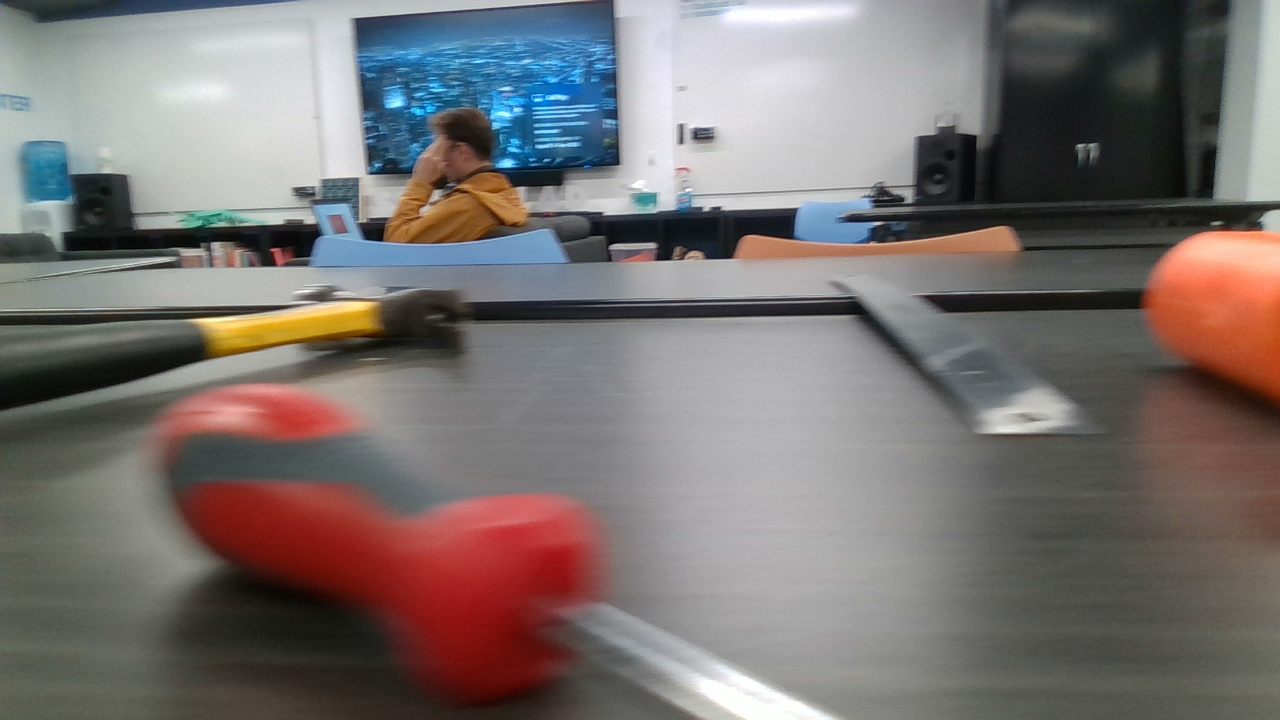Orange Hammer: (1146, 229, 1280, 426)
